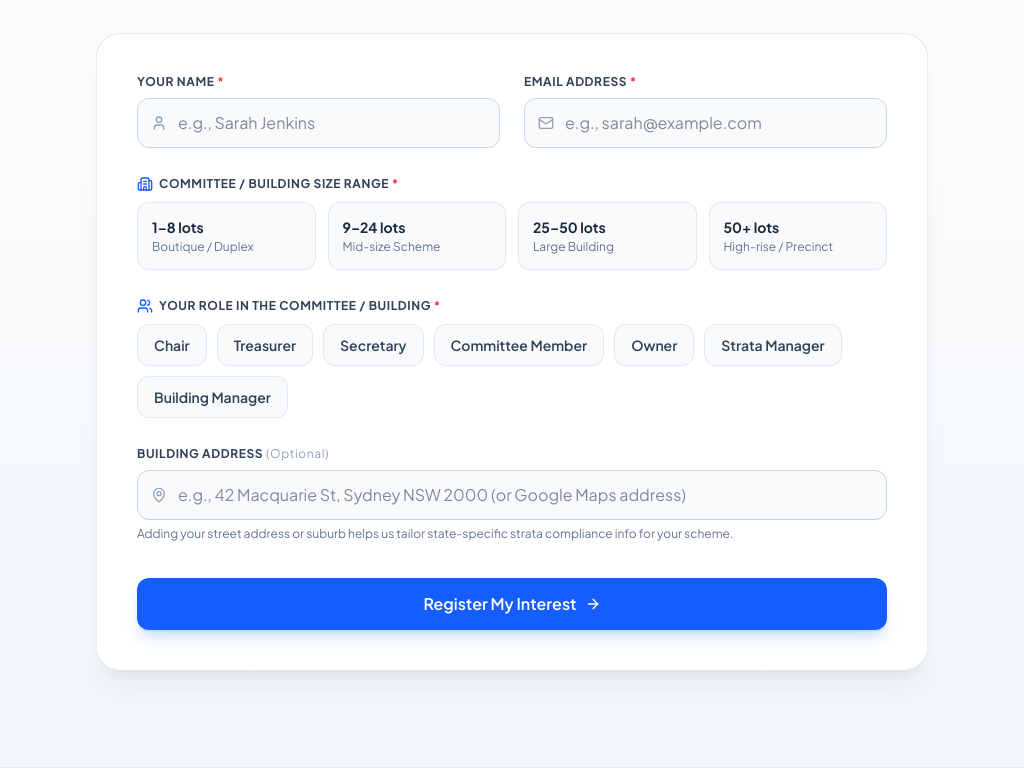
Scenario: InterestFormSection Component › displays a live Google Maps verification link when an optional building address is entered
(page scrolled)
expect the link "Verify on Google Maps" is not shown: met
Step 1. Replace the text in the field labelled "Building Address (Optional)" with "42 Macquarie St, Sydney NSW 2000" → (512, 495), box [137,470,887,520]
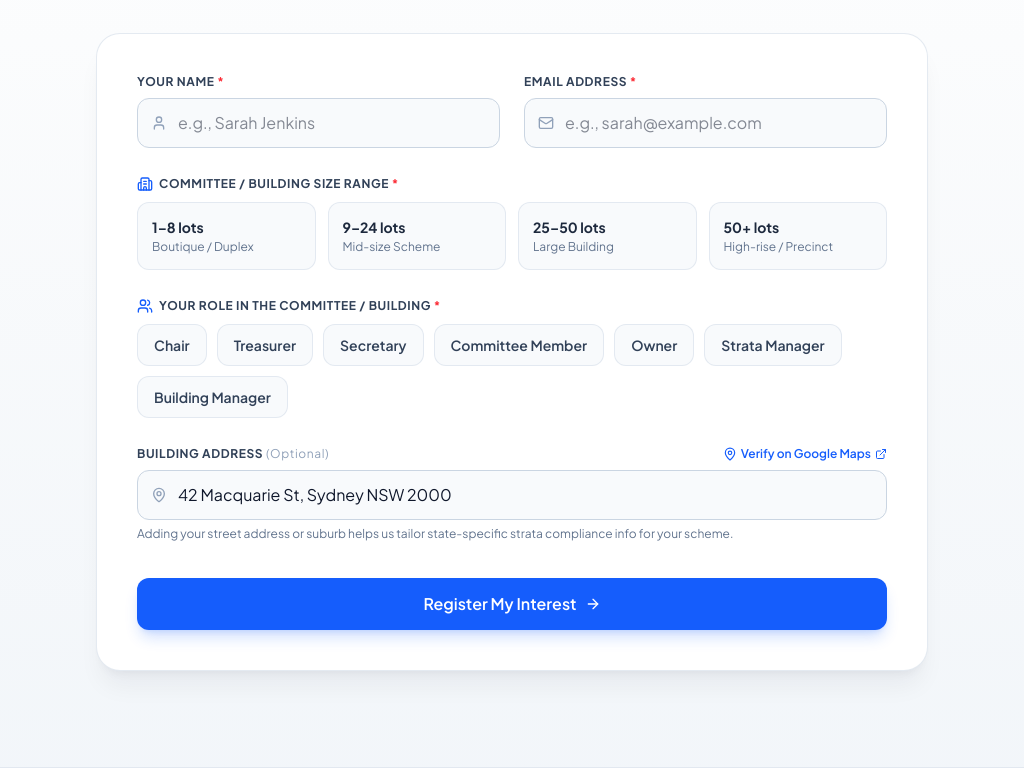
expect the link "Verify on Google Maps" is shown: met, box [723,446,887,462]
